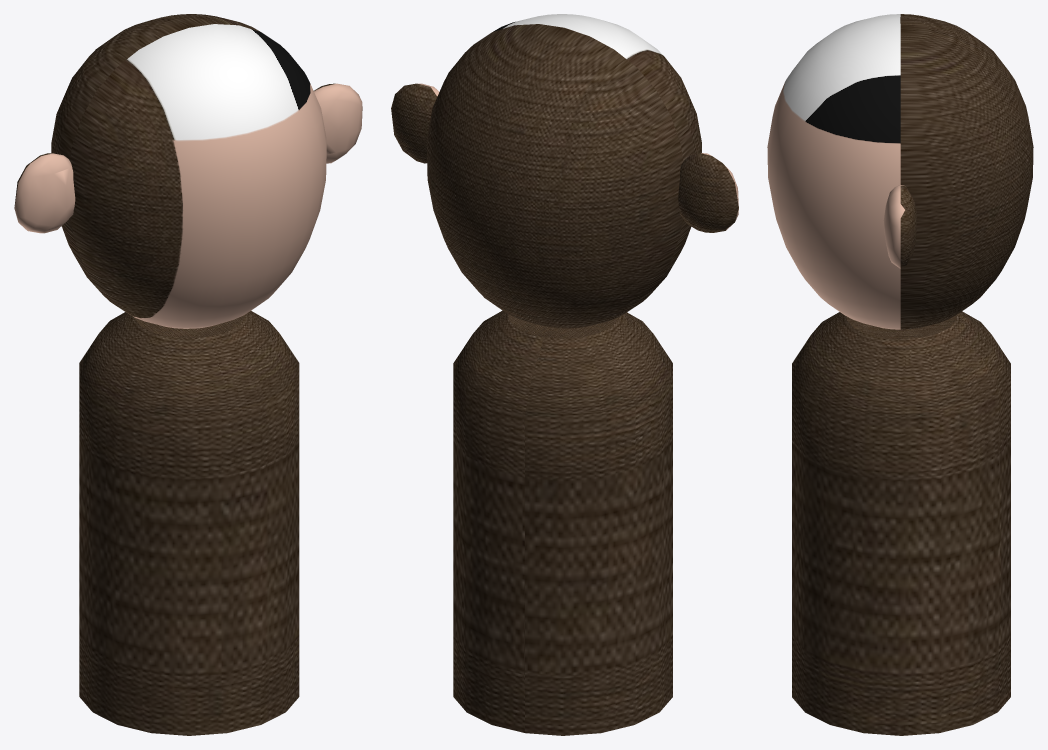
File: Monkey toy.FBX
The picture shows the model from 3 angles, left to right: view 1: azimuth 30°, elevation 25°; view 2: azimuth 150°, elevation 25°; view 3: azimuth 270°, elevation 25°; orthographic projection.
Parts seen in each view (by area): view 1: monkey toy; view 2: monkey toy; view 3: monkey toy.
Boxes of the visible parts, x1,y1,x2,y2 form: monkey toy: (14,14,362,735); monkey toy: (391,14,738,735); monkey toy: (767,14,1033,735).
Bounding box in the file's own units: 7.51 × 13.63 × 4.98.
